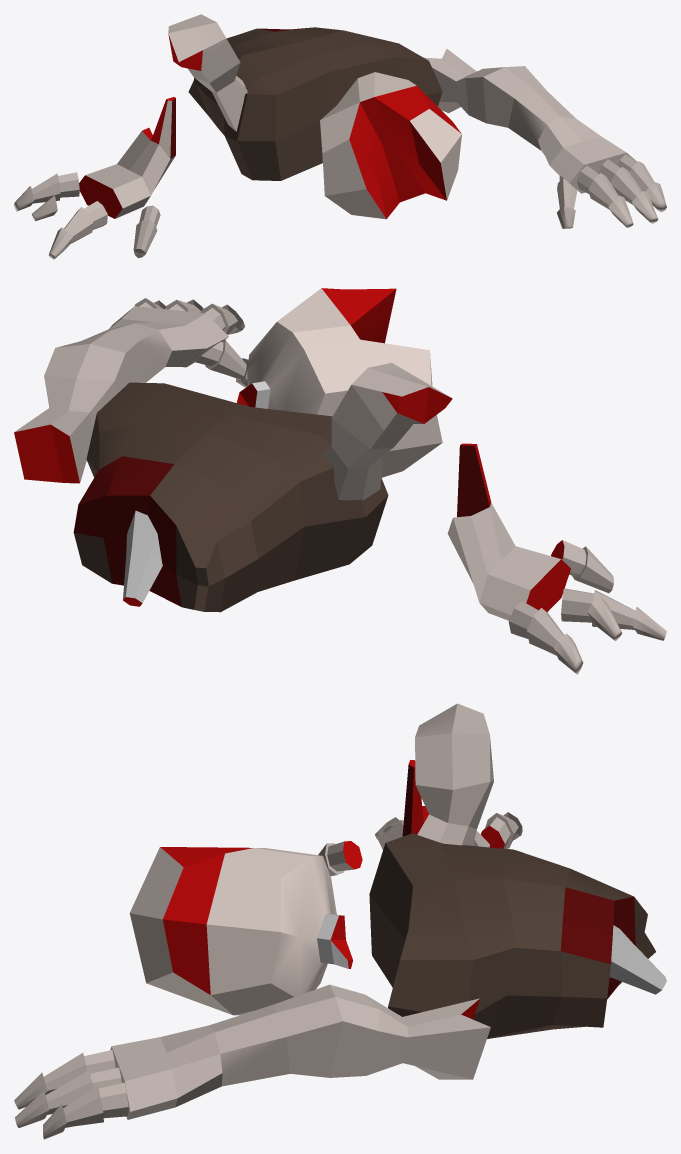
The model's file is deadguy01.fbx.
3 renders of one model, top to bottom at view 1: azimuth 30°, elevation 25°; view 2: azimuth 150°, elevation 25°; view 3: azimuth 270°, elevation 25°, orthographic. The views are drawn at different scales.
Parts seen in each view (by area): view 1: polySurface43; view 2: polySurface43; view 3: polySurface43.
Part boxes in pixels (left/top/right/bottom): polySurface43: left=14, top=14, right=666, bottom=259; polySurface43: left=14, top=288, right=666, bottom=674; polySurface43: left=14, top=703, right=666, bottom=1139.
Bounding box in the file's own units: 141 × 46.5 × 117.
